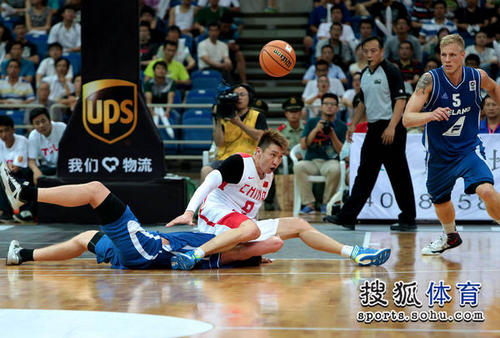10+: (8, 3, 495, 278)
down: (193, 130, 414, 276), (9, 171, 190, 274)
